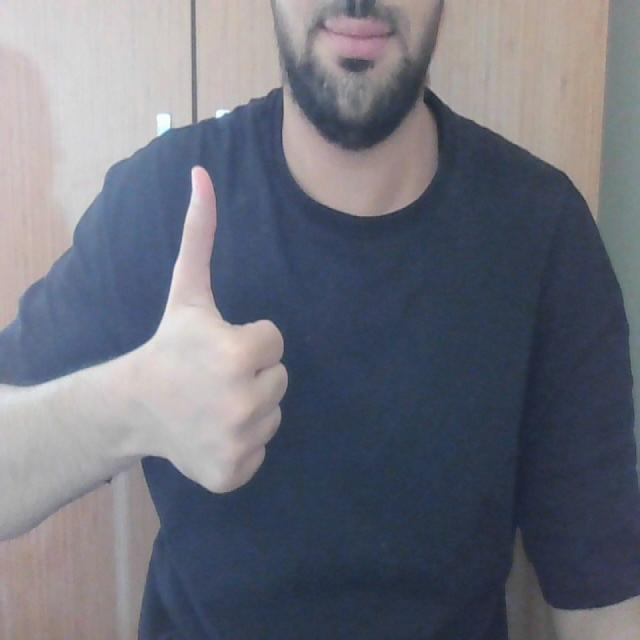Tamam: (137, 152, 291, 504)
